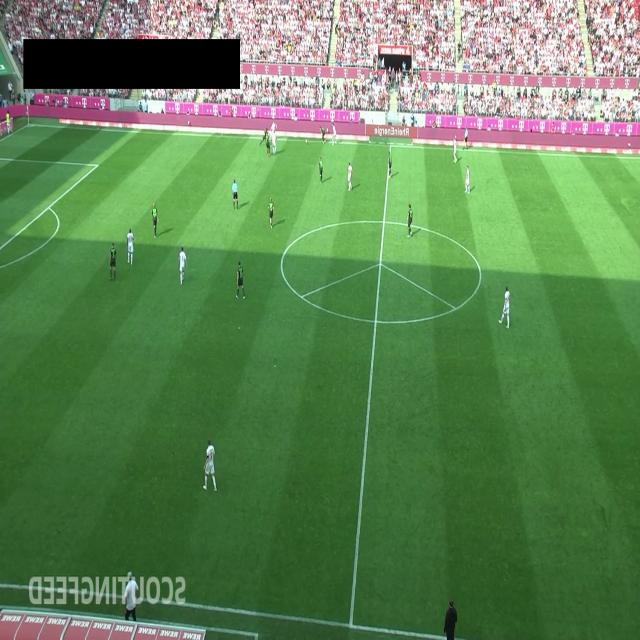ball: (305, 138, 308, 144)
player: (203, 438, 217, 492), (443, 598, 458, 640), (499, 285, 510, 328), (177, 246, 187, 286), (236, 261, 246, 299), (109, 242, 117, 280), (127, 227, 134, 265), (267, 196, 275, 228), (152, 202, 159, 238), (406, 203, 413, 238), (347, 162, 353, 191), (318, 156, 324, 183), (266, 130, 272, 156), (260, 129, 269, 146), (453, 134, 458, 163), (465, 165, 470, 194), (331, 122, 337, 145), (272, 130, 277, 155), (320, 125, 326, 144), (388, 150, 392, 178), (271, 122, 276, 144)
referee: (232, 178, 238, 210), (463, 126, 468, 150)
